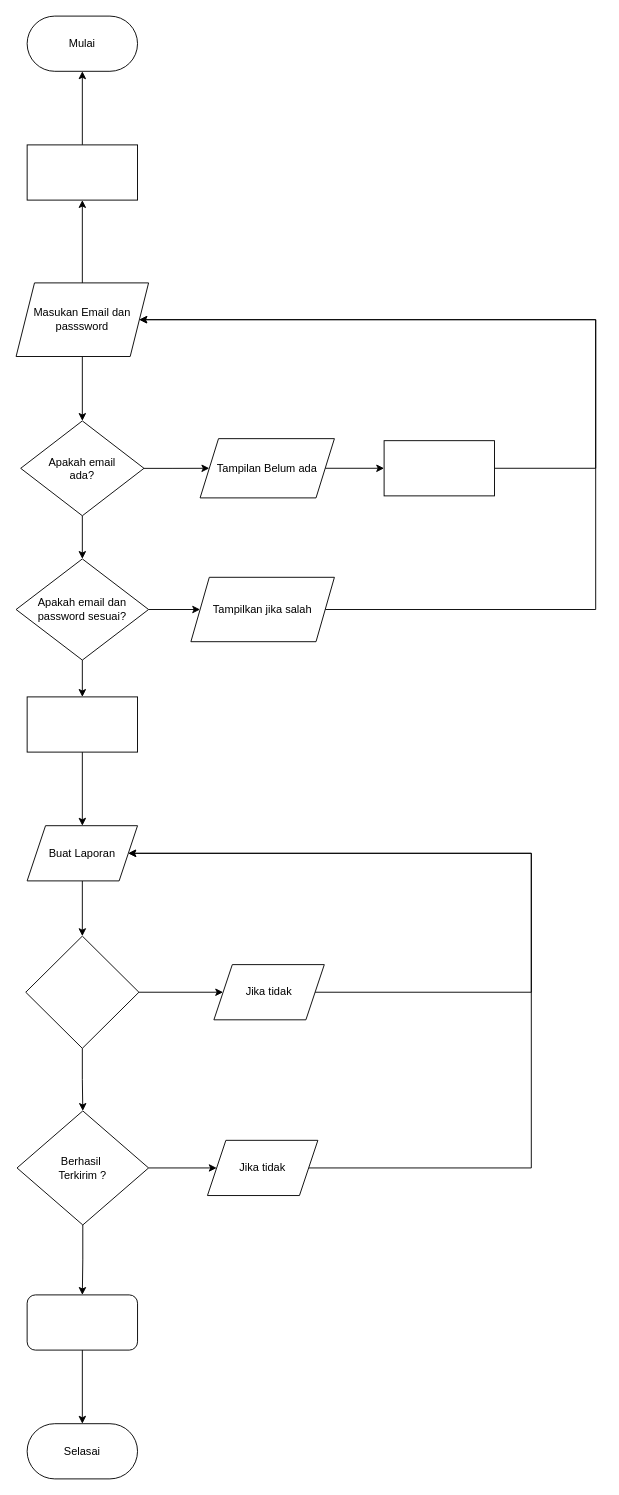
This 619x1495 diagram has some shape labels left out. The centre of each missing label's shape, as x and y in pixels:
Buat Akun: the point at 438,468
Di isi semua ?: the point at 82,991
Ke halaman user: the point at 82,724
Login: the point at 82,172
Terkirim: the point at 82,1322
